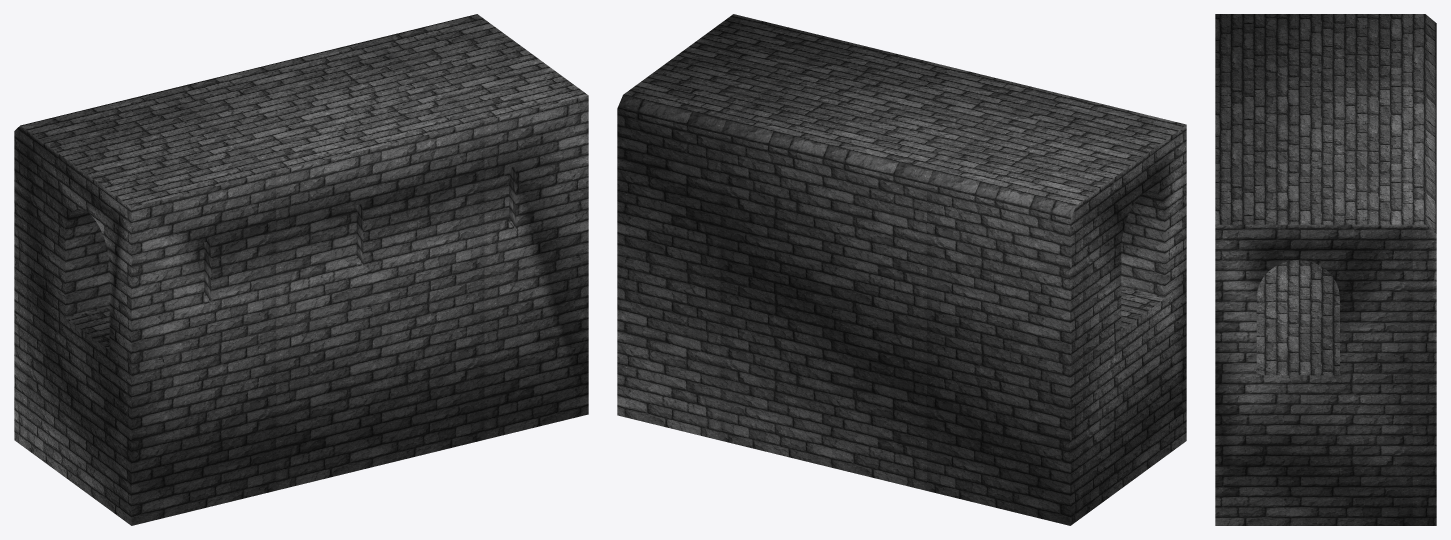
The model's file is stone big arrowslit.glb.
3 renders of one model, left to right at view 1: azimuth 30°, elevation 25°; view 2: azimuth 150°, elevation 25°; view 3: azimuth 270°, elevation 25°, orthographic. The views are drawn at different scales.
Visible parts, largest first — view 1: Curtain Wall With Passage; view 2: Curtain Wall With Passage; view 3: Curtain Wall With Passage.
Boxes of the visible parts, <box> form: Curtain Wall With Passage: <box>14,14,588,525</box>; Curtain Wall With Passage: <box>617,14,1186,525</box>; Curtain Wall With Passage: <box>1215,14,1436,525</box>.
Bounding box in the file's own units: 8.23 × 5.49 × 3.66.
1 material, 1 textured.
